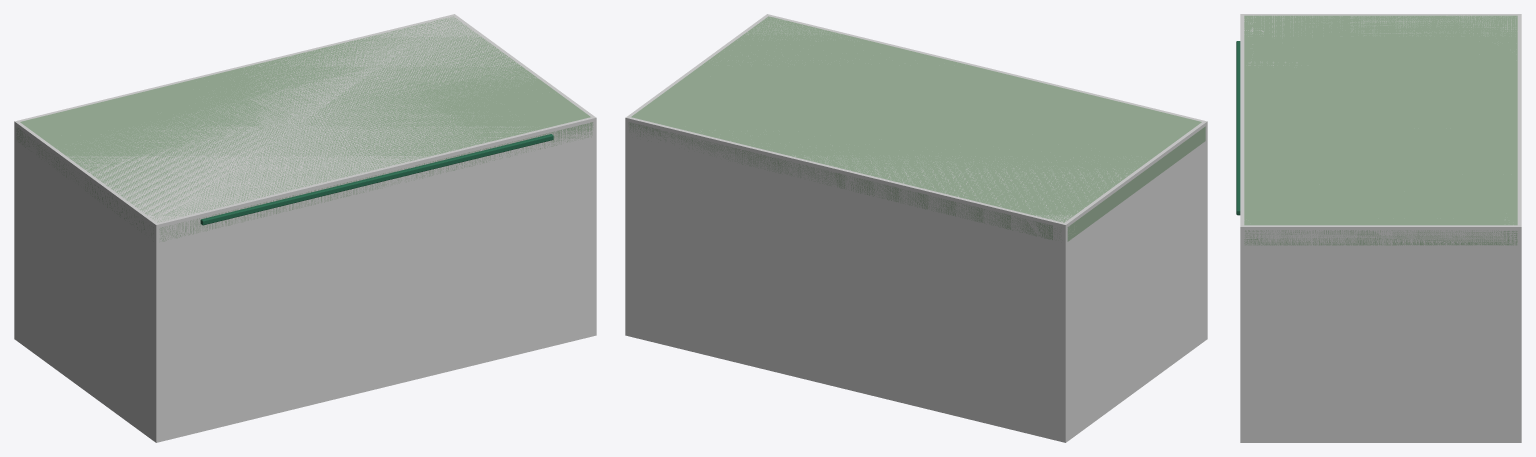
The model's file is dining-table_retail.glb.
The picture shows the model from 3 angles, left to right: view 1: azimuth 30°, elevation 25°; view 2: azimuth 150°, elevation 25°; view 3: azimuth 270°, elevation 25°; orthographic projection.
Parts seen in each view (by area): view 1: COL_dining-table, MESH_Top, MESH_TierTrim_01; view 2: COL_dining-table, MESH_Top; view 3: COL_dining-table, MESH_Top, MESH_TierTrim_01.
Boxes of the visible parts, x1,y1,x2,y2 form: COL_dining-table: [14, 14, 596, 442]; MESH_Top: [16, 16, 593, 241]; MESH_TierTrim_01: [200, 134, 553, 225]; COL_dining-table: [625, 14, 1207, 442]; MESH_Top: [628, 16, 1205, 241]; COL_dining-table: [1240, 14, 1521, 442]; MESH_Top: [1244, 15, 1517, 245]; MESH_TierTrim_01: [1236, 41, 1240, 215].
Bounding box in the file's own units: 1.65 × 0.78 × 0.933.
